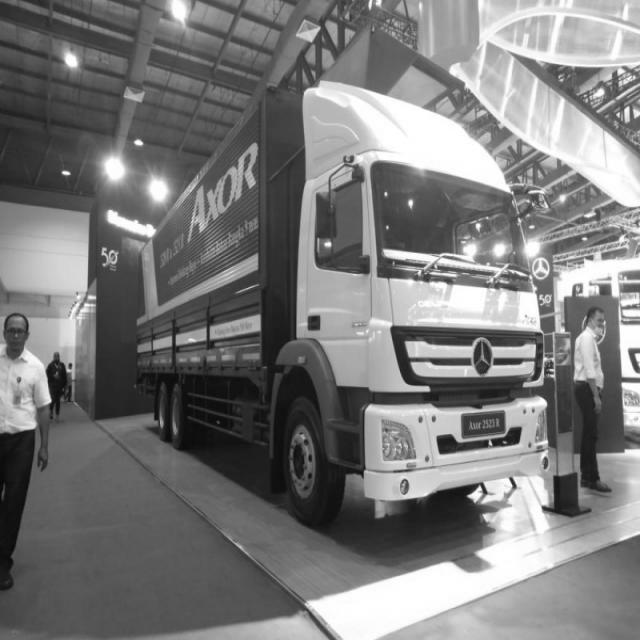truck: (279, 65, 560, 507)
